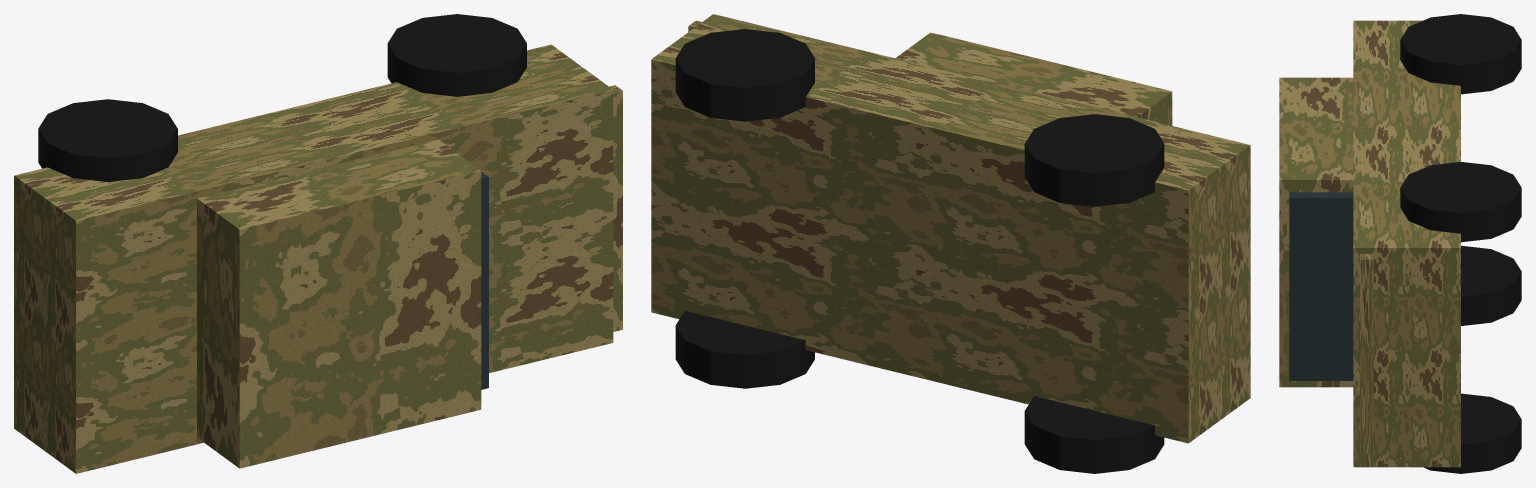
File: jeep_camo.obj
3 renders of one model, left to right at view 1: azimuth 30°, elevation 25°; view 2: azimuth 150°, elevation 25°; view 3: azimuth 270°, elevation 25°, orthographic. The views are drawn at different scales.
Bounding box in the file's own units: 4.1 × 2.14 × 1.8.
3 materials, 1 textured.
